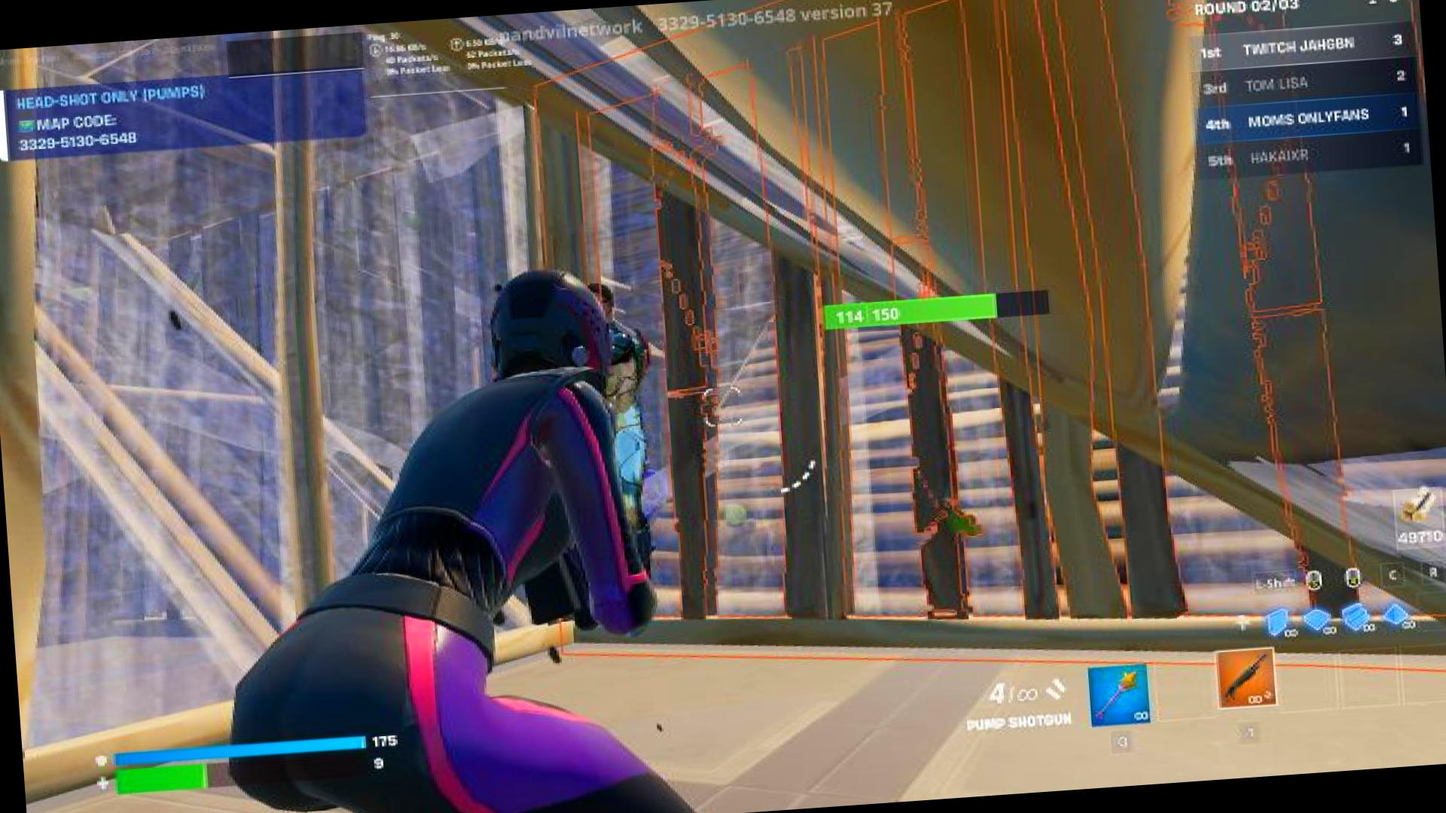player: (546, 271, 673, 637)
